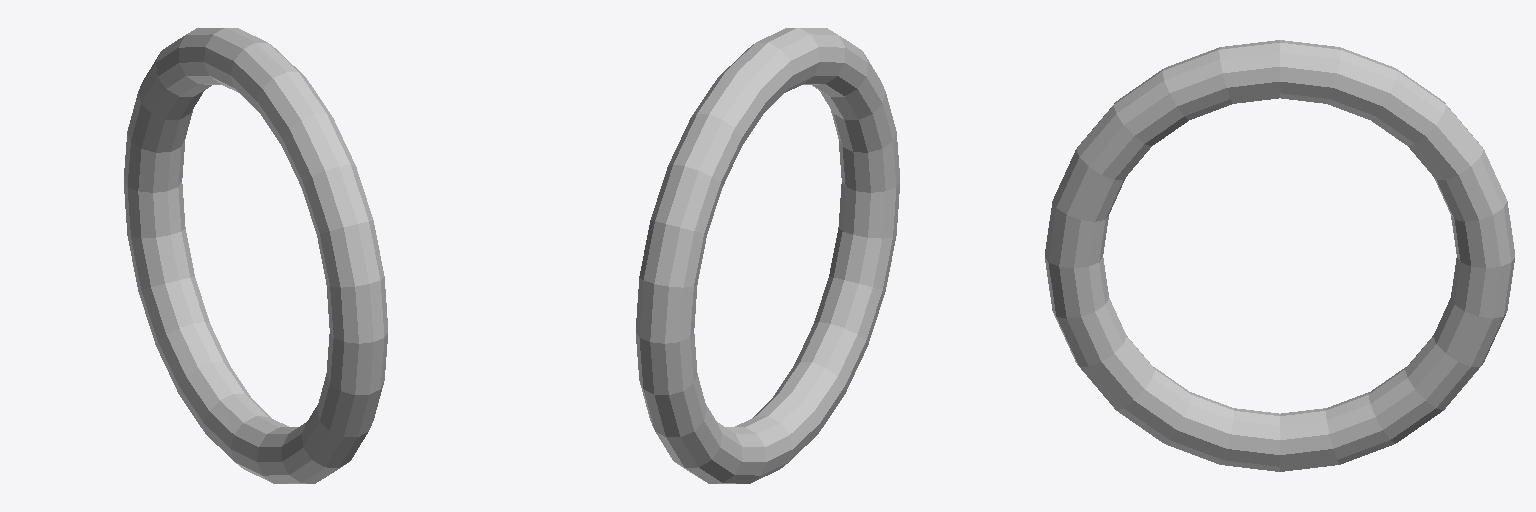
The model's file is Ring.obj.
3 views of the same model, side by side, from view 1: azimuth 30°, elevation 25°; view 2: azimuth 150°, elevation 25°; view 3: azimuth 270°, elevation 25° (orthographic).
Visible parts, largest first — view 1: Torus001; view 2: Torus001; view 3: Torus001.
Part boxes in pixels (x1,y1,x2,y2): Torus001: (124, 28, 387, 483); Torus001: (636, 28, 899, 483); Torus001: (1045, 40, 1514, 471).
Bounding box in the file's own units: 8.61 × 69.1 × 69.1.